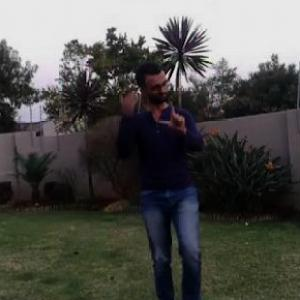land_hand: (158, 90, 189, 134)
